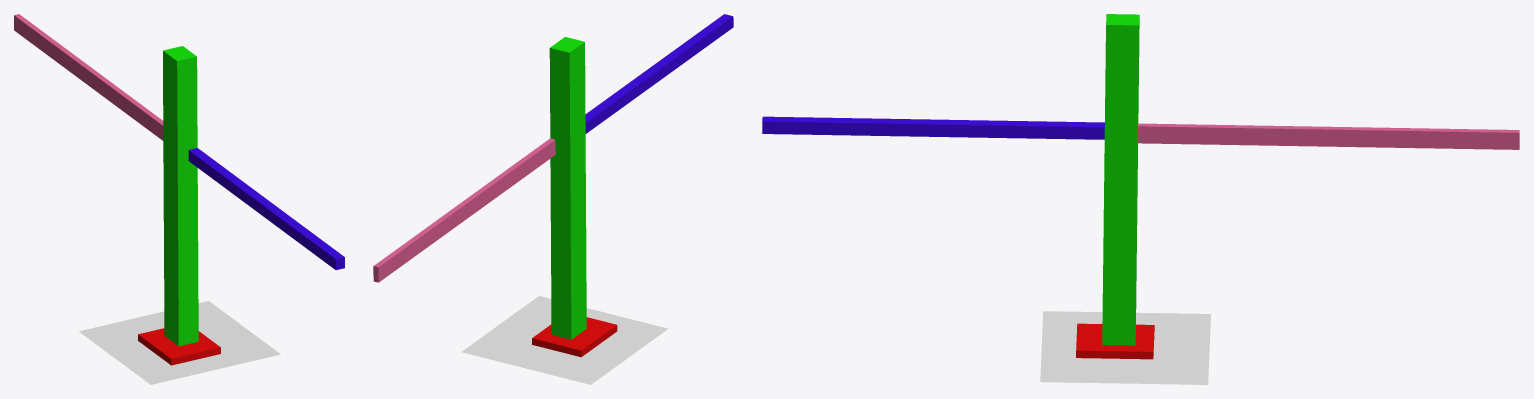
Rendered from CRUZEIRO.glb.
The picture shows the model from 3 angles, left to right: view 1: azimuth 30°, elevation 25°; view 2: azimuth 150°, elevation 25°; view 3: azimuth 270°, elevation 25°; orthographic projection. The views are drawn at different scales.
Visible parts, largest first — view 1: Cubo.001, Plano, Cubo.002, Cubo.003, Cubo; view 2: Cubo.001, Plano, Cubo.003, Cubo.002, Cubo; view 3: Cubo.001, Plano, Cubo.003, Cubo.002, Cubo.
Boxes of the visible parts, <box> form: Cubo.001: <box>163,46,198,346</box>; Plano: <box>79,301,280,384</box>; Cubo.002: <box>188,148,344,269</box>; Cubo.003: <box>14,14,163,140</box>; Cubo: <box>138,328,220,365</box>; Cubo.001: <box>549,37,586,339</box>; Plano: <box>461,296,668,384</box>; Cubo.003: <box>373,138,555,282</box>; Cubo.002: <box>585,14,733,133</box>; Cubo: <box>532,317,617,357</box>; Cubo.001: <box>1102,14,1139,345</box>; Plano: <box>1040,311,1210,384</box>; Cubo.003: <box>1138,123,1519,149</box>; Cubo.002: <box>762,116,1104,139</box>; Cubo: <box>1076,323,1154,359</box>.
Size of the model in its own units: 2.03 by 4.32 by 9.02.
